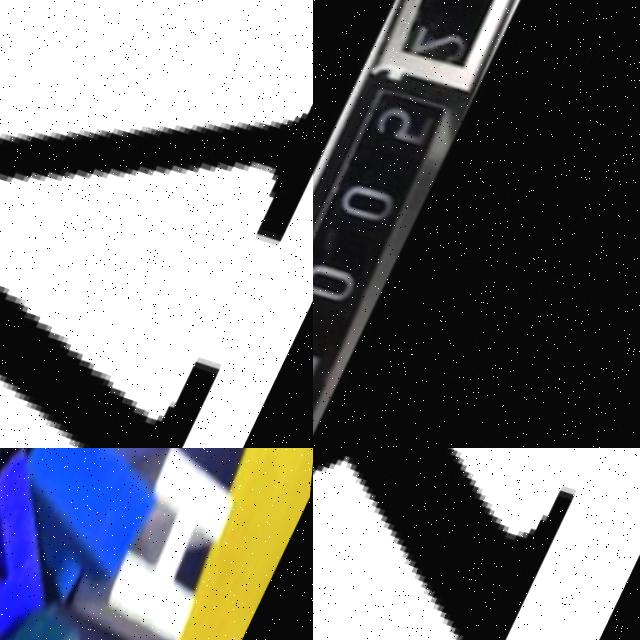0: (341, 181, 409, 239), (313, 258, 374, 319)
2: (410, 25, 481, 81)
5: (373, 100, 445, 162)
7: (313, 339, 339, 400)
H: (73, 448, 269, 640)
V: (0, 0, 313, 448)
X: (313, 448, 640, 640)
